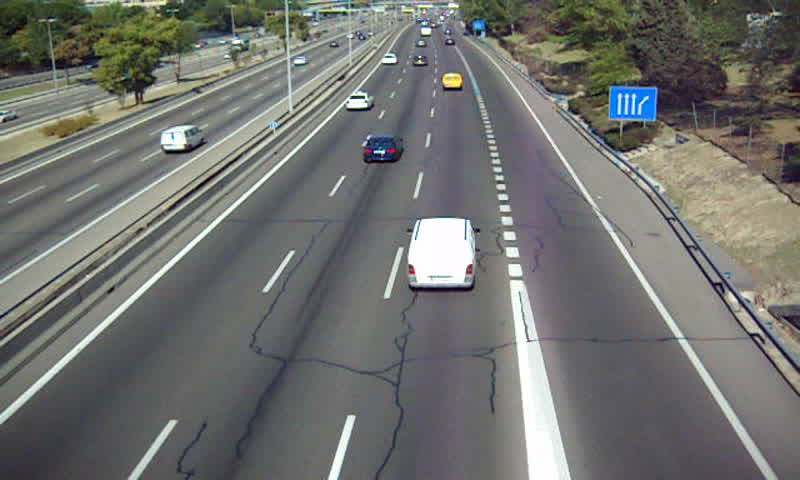car: (362, 136, 403, 163), (344, 92, 372, 111), (412, 53, 428, 68), (380, 52, 396, 64)
van: (406, 218, 477, 290), (441, 73, 464, 91)
